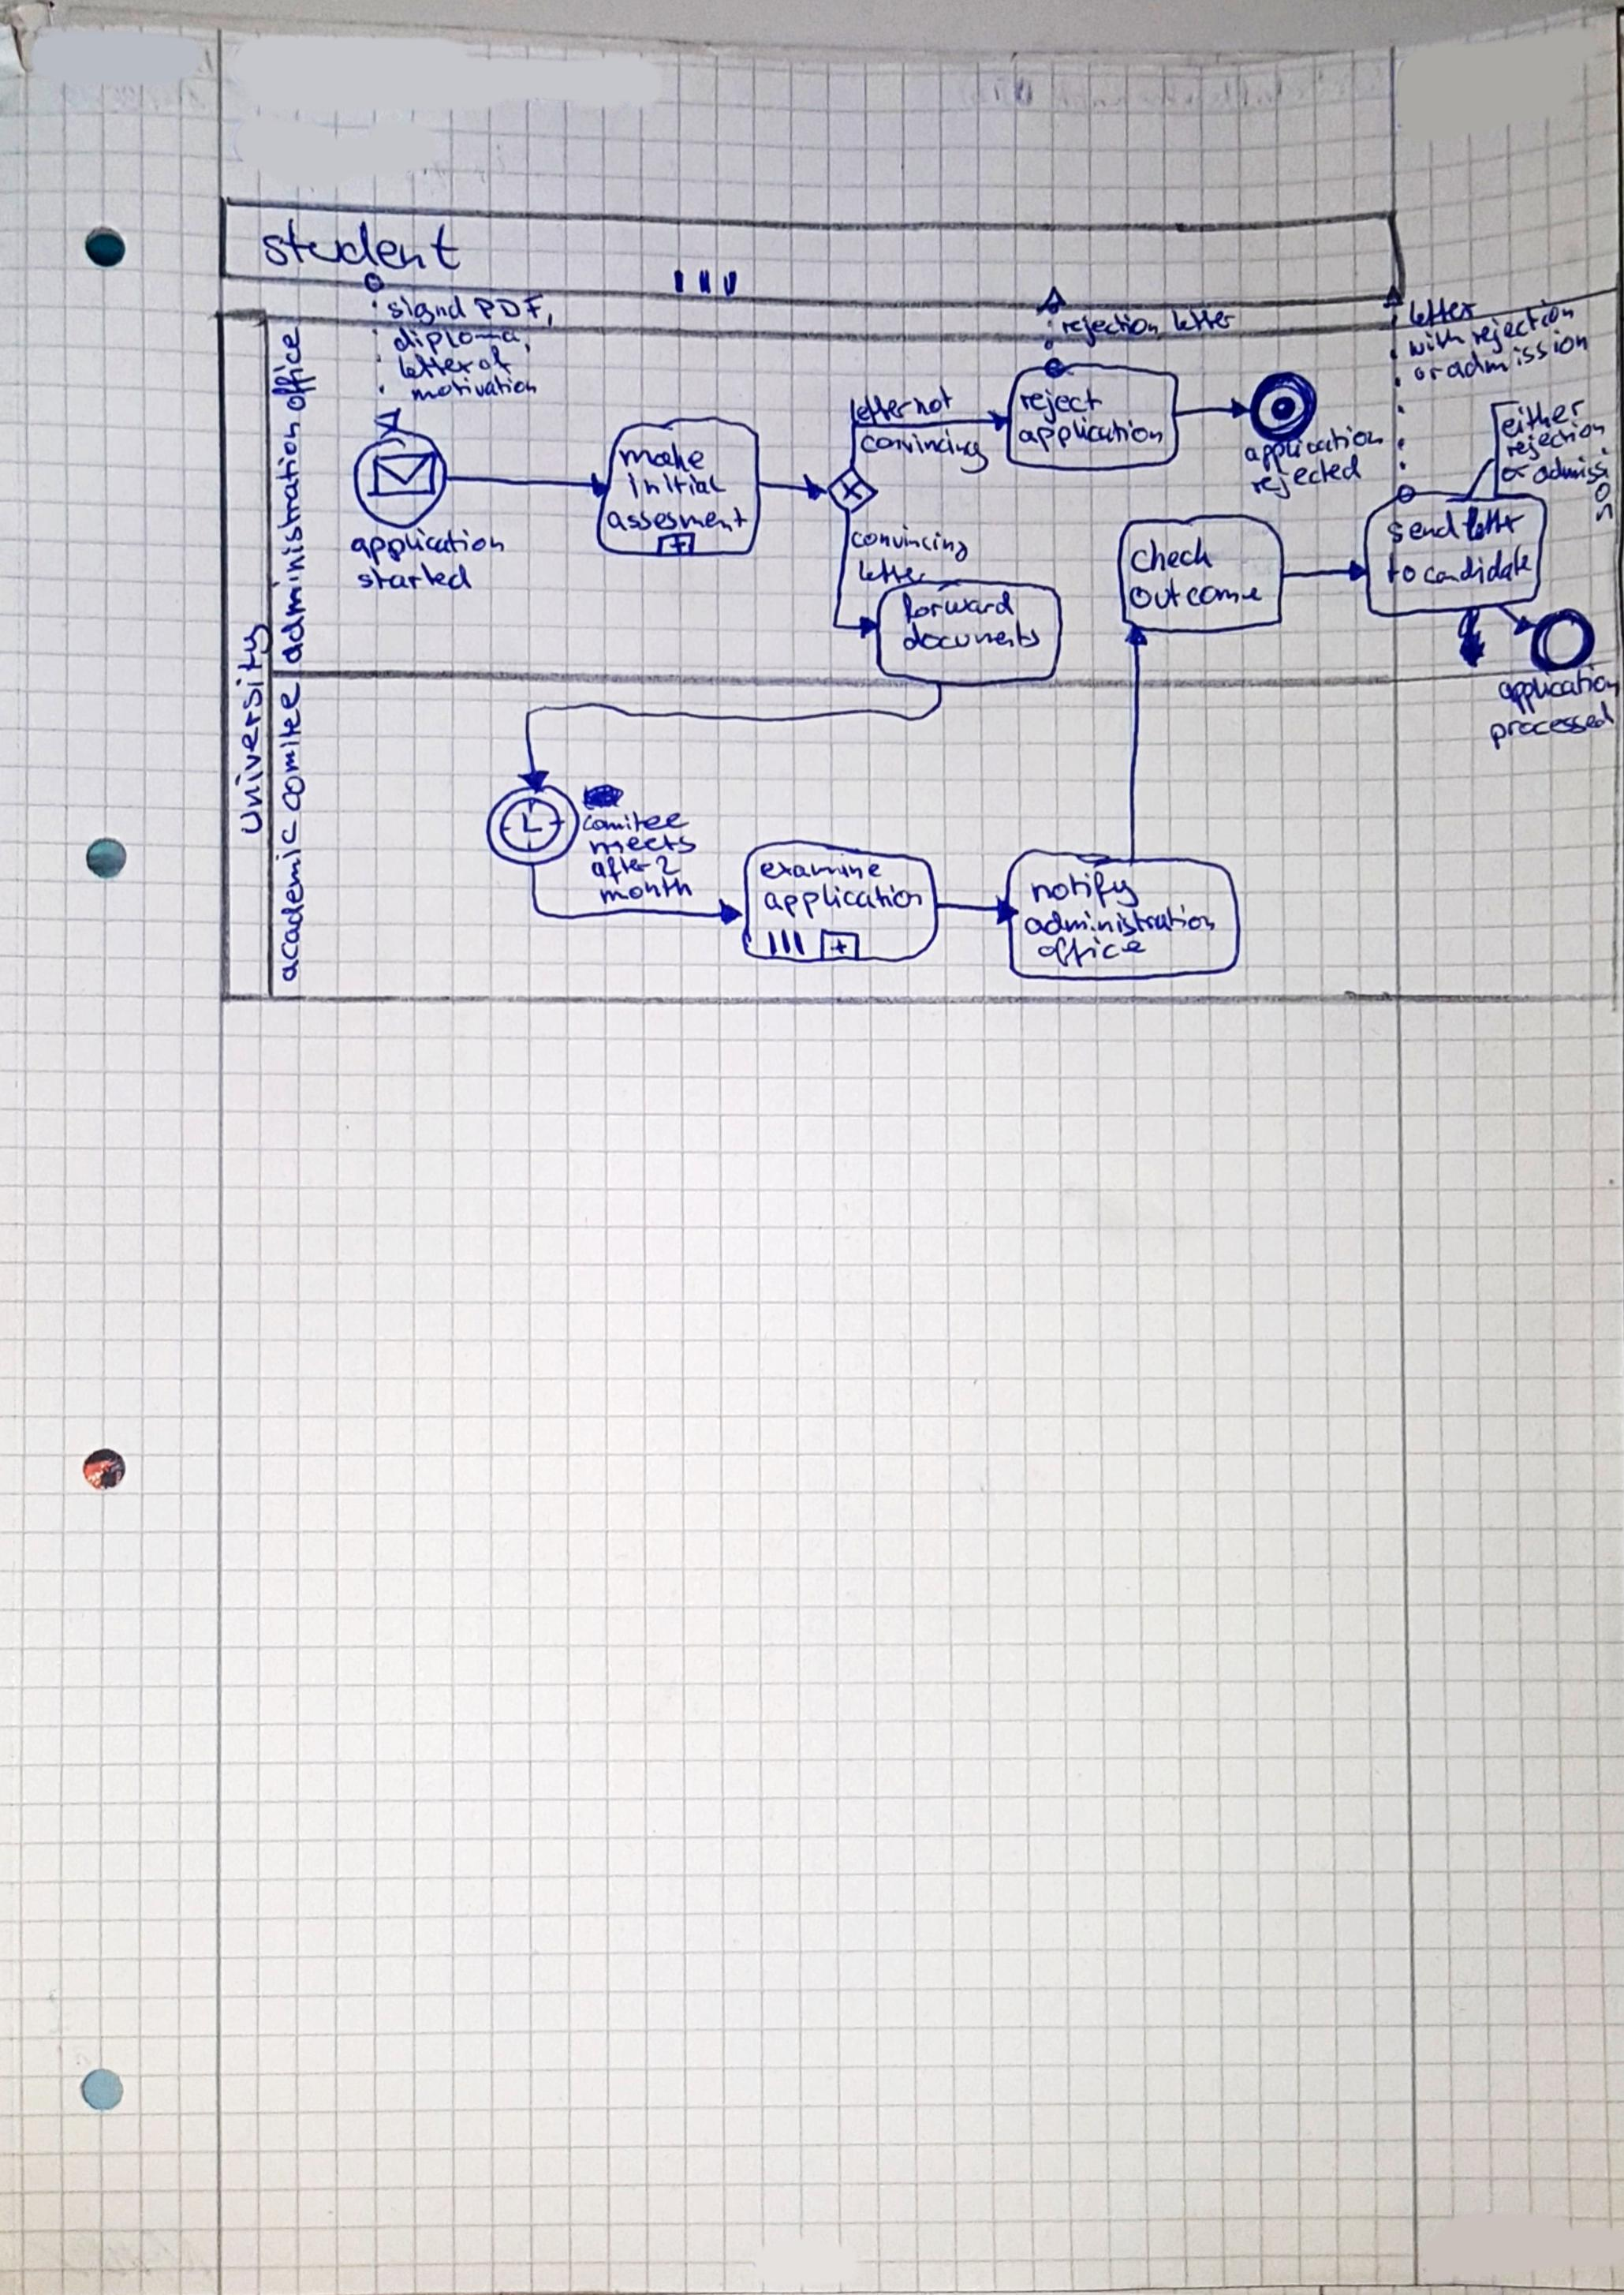2: (655, 852, 682, 875)
III: (661, 260, 741, 300), (763, 933, 801, 961)
Outcome: (1134, 577, 1266, 615)
PDF,: (476, 294, 556, 325)
University: (236, 627, 276, 828)
academic: (274, 814, 309, 977)
administration: (273, 414, 312, 658), (1027, 906, 1219, 941)
admission: (1447, 327, 1588, 386), (1527, 446, 1616, 517)
after: (591, 854, 658, 881)
application: (1242, 422, 1387, 474), (1495, 665, 1616, 716), (763, 882, 926, 921), (351, 526, 506, 563), (1020, 419, 1166, 451)
assesment: (609, 506, 749, 534)
candidate: (1417, 546, 1538, 590)
check: (1128, 534, 1214, 578)
comitee: (273, 678, 311, 807), (582, 809, 686, 837)
convincing: (858, 429, 999, 464), (848, 526, 973, 563)
diplomac,: (396, 322, 532, 357)
documents: (901, 621, 1040, 658)
either: (1498, 392, 1587, 439)
examine: (760, 858, 890, 886)
forward: (895, 587, 1014, 629)
initial: (624, 473, 726, 501)
letter: (1400, 295, 1489, 335), (1458, 503, 1532, 545), (394, 347, 475, 384), (1162, 302, 1236, 342), (853, 559, 943, 589), (846, 392, 910, 430)
make: (614, 443, 710, 474)
meets: (588, 828, 699, 859)
month: (610, 875, 693, 906)
motivation: (411, 373, 539, 406)
not: (912, 385, 958, 421)
notify: (1035, 874, 1138, 909)
of: (472, 346, 513, 376)
office: (1037, 933, 1153, 967), (274, 331, 312, 409)
or: (1407, 357, 1447, 387), (1499, 456, 1528, 488)
processed: (1485, 703, 1622, 753)
reject: (1016, 387, 1105, 418)
rejected: (1249, 454, 1373, 501)
rejection: (1463, 297, 1574, 353), (1501, 416, 1612, 465), (1060, 307, 1159, 340)
send: (1385, 507, 1454, 548)
signd: (384, 292, 471, 327)
started: (357, 562, 475, 596)
student: (258, 222, 466, 278)
to: (1379, 554, 1411, 590)
with: (1408, 324, 1463, 362)
